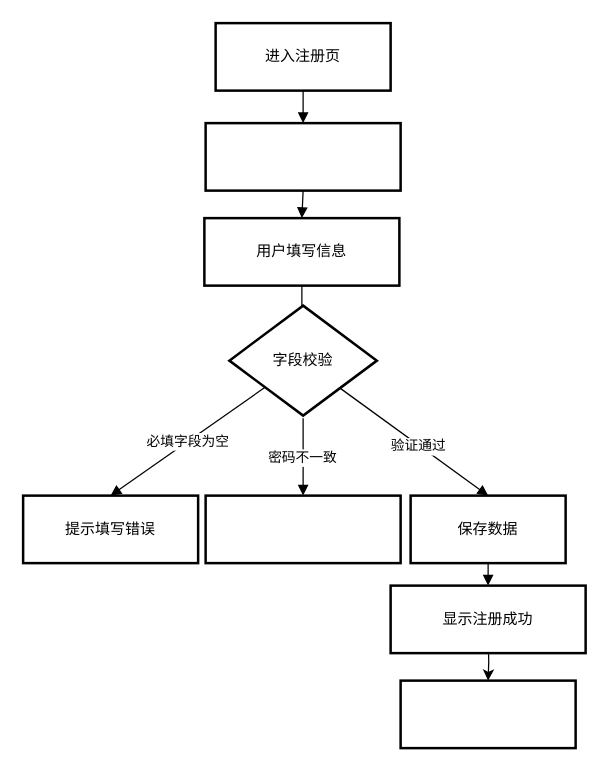
This 608x770 diagram has some shape labels left out. The shapes that lost their labels are listed below. From the top down, each one's centre as x and y in pixels, then its label:
At point 302,156: "显示注册表单".
At point 302,529: "显示密码错误".
At point 487,714: "跳转登录页".
